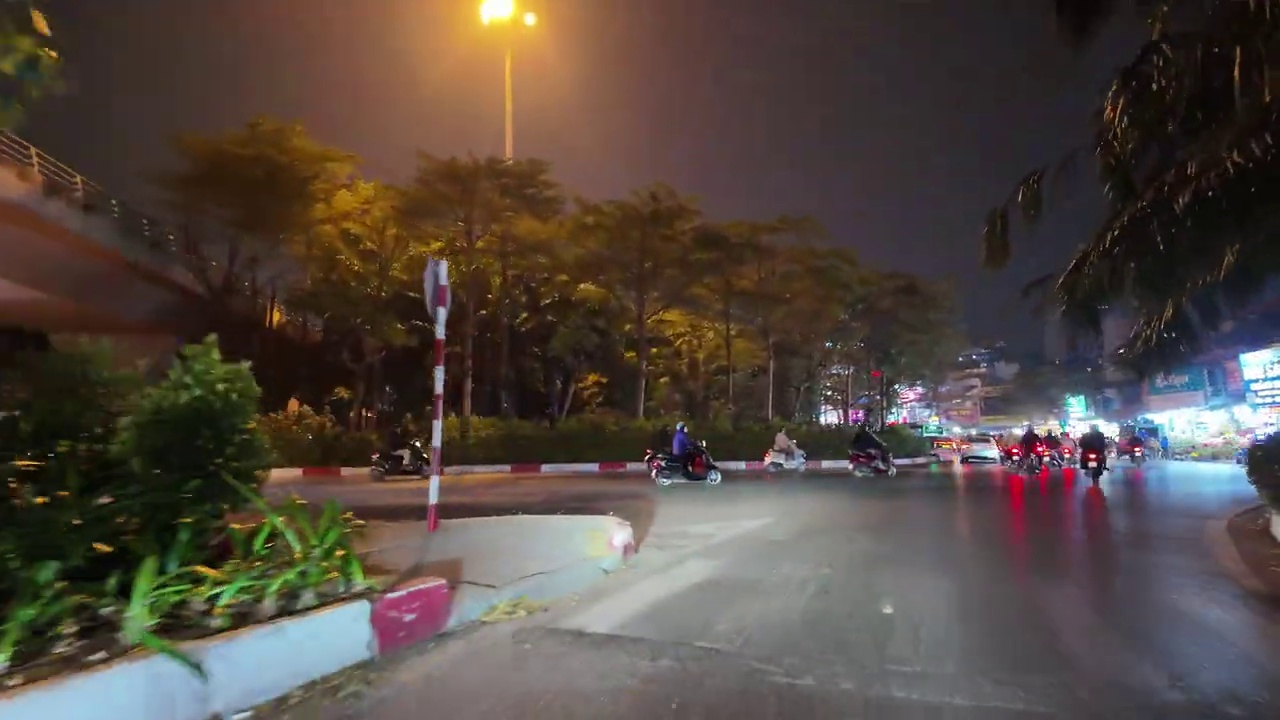acesa: (462, 0, 542, 39)
